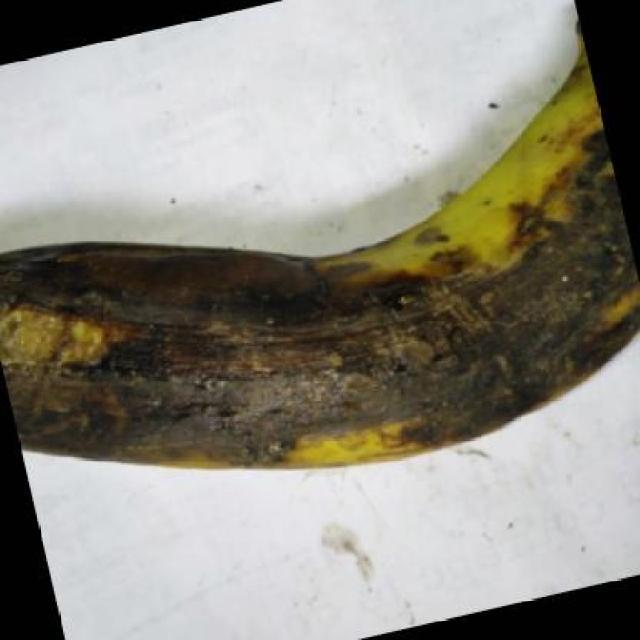rotten: (0, 38, 640, 519)
